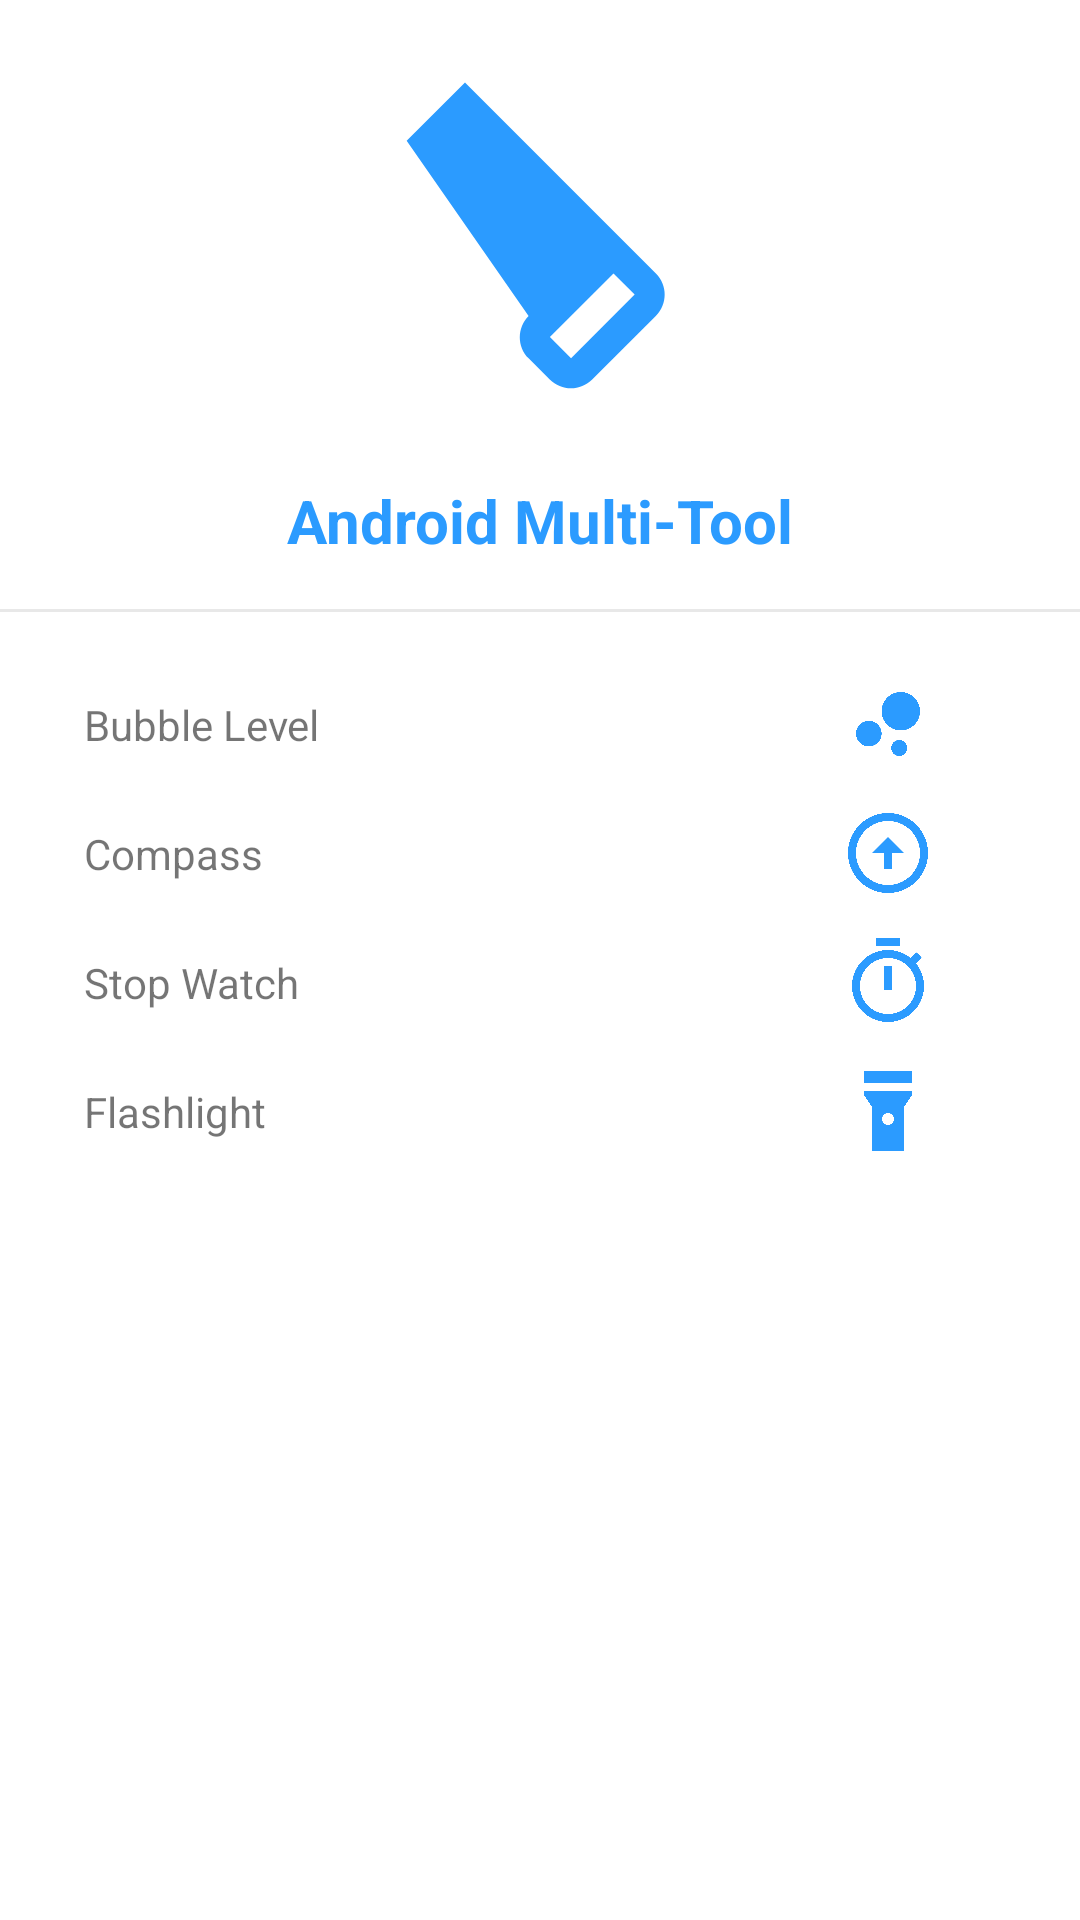

Icons on this 1080x1920 Android screen, each with its box as (x1, y1, x2, y2):
carpenter: (407, 82, 665, 389)
timer: (852, 938, 924, 1022)
